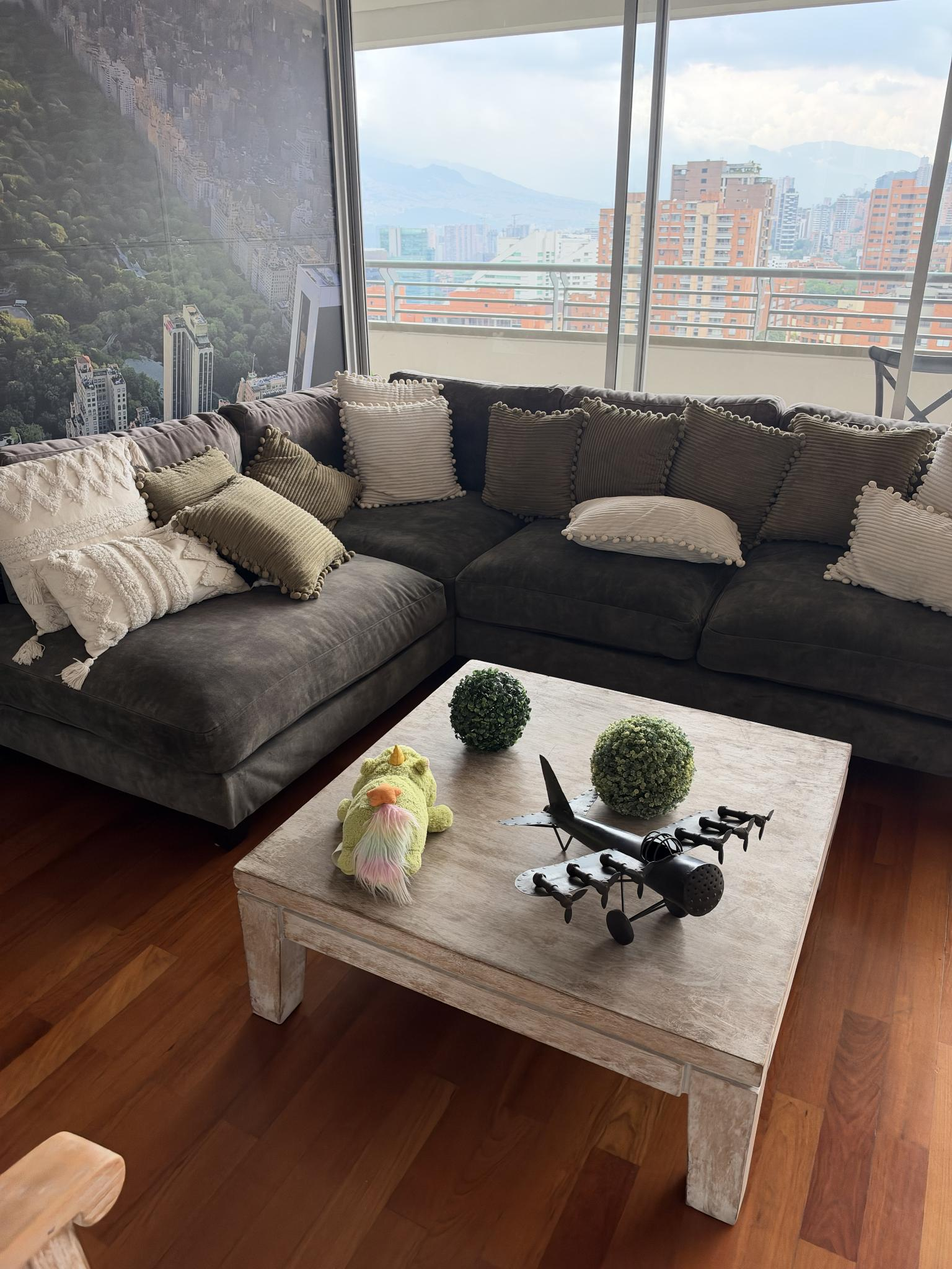peluche_martin: (336, 744, 454, 906)
